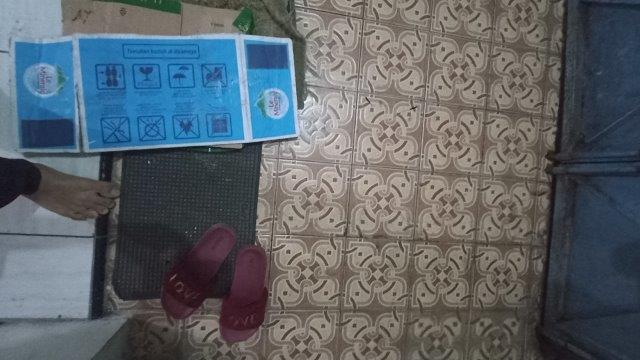kardus: (11, 2, 299, 150)
